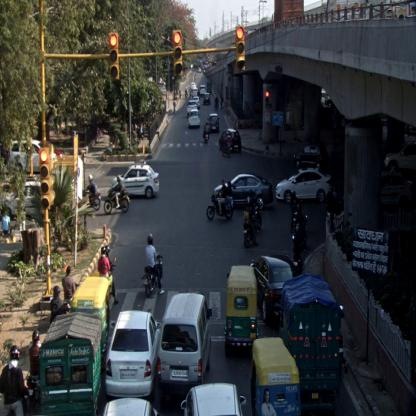car: (158, 290, 212, 386), (104, 311, 162, 395), (251, 254, 297, 321), (210, 174, 274, 210), (276, 167, 333, 205), (181, 384, 246, 416), (112, 162, 160, 200), (292, 142, 327, 168), (219, 129, 242, 154), (188, 106, 201, 129), (208, 113, 220, 134), (187, 100, 196, 116), (204, 93, 210, 106), (200, 84, 206, 97)
motorcycle: (142, 233, 165, 298), (25, 328, 41, 416), (98, 245, 120, 306), (206, 180, 233, 221), (104, 174, 130, 216), (242, 206, 258, 246), (85, 176, 100, 211), (221, 131, 232, 156), (202, 118, 210, 144)
truck: (279, 274, 338, 407), (41, 312, 101, 415)
